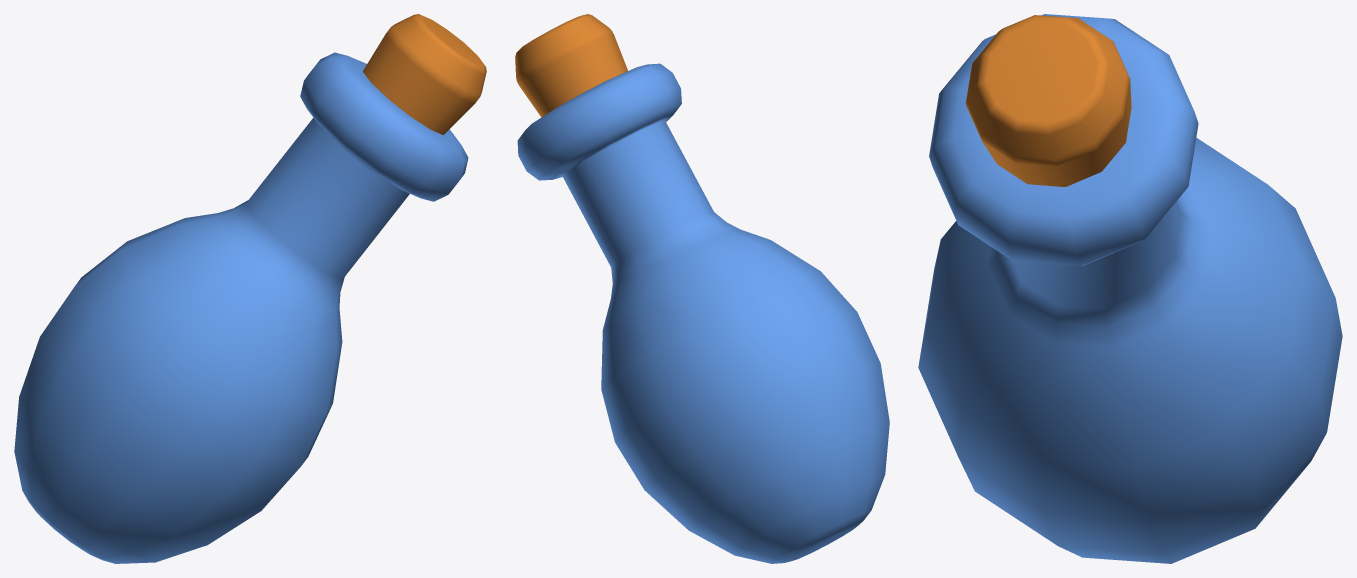
3 views of the same model, side by side, from view 1: azimuth 30°, elevation 25°; view 2: azimuth 150°, elevation 25°; view 3: azimuth 270°, elevation 25° (orthographic). The views are drawn at different scales.
Visible parts, largest first — view 1: model_1.108; view 2: model_1.108; view 3: model_1.108.
Part boxes in pixels (x1,y1,x2,y2): model_1.108: (14, 14, 486, 563); model_1.108: (515, 14, 889, 563); model_1.108: (918, 14, 1342, 563).
Size of the model in its own units: 3.83 by 4.34 by 2.39.
